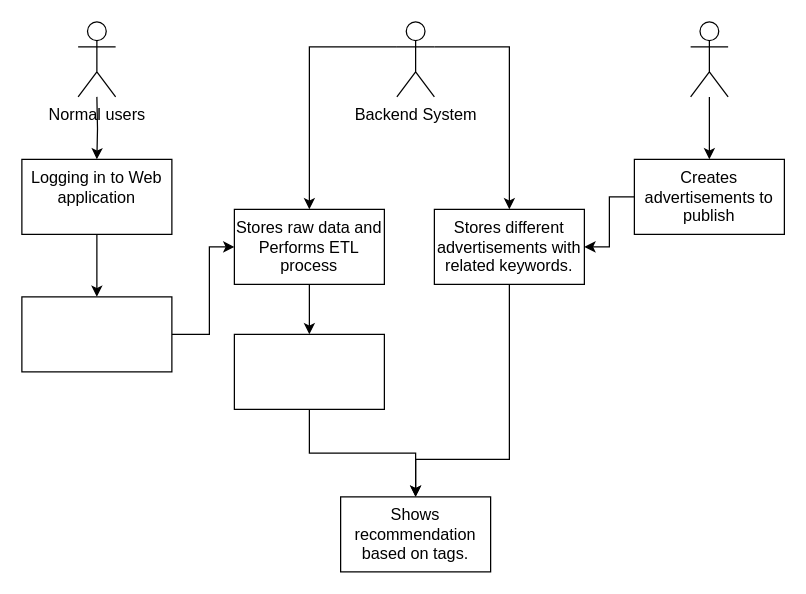
The diagram is 806 pixels wide and 594 high, and some of its shapes have lost their labels. The shapes that lost their labels are listed below. From the top down, each one's centre as x and y in pixels, then its label:
At point (708, 59): "Advertisors".
At point (96, 334): "Contributes in with their audio as data".
At point (308, 371): "Associates fettched tags with respective user.".
